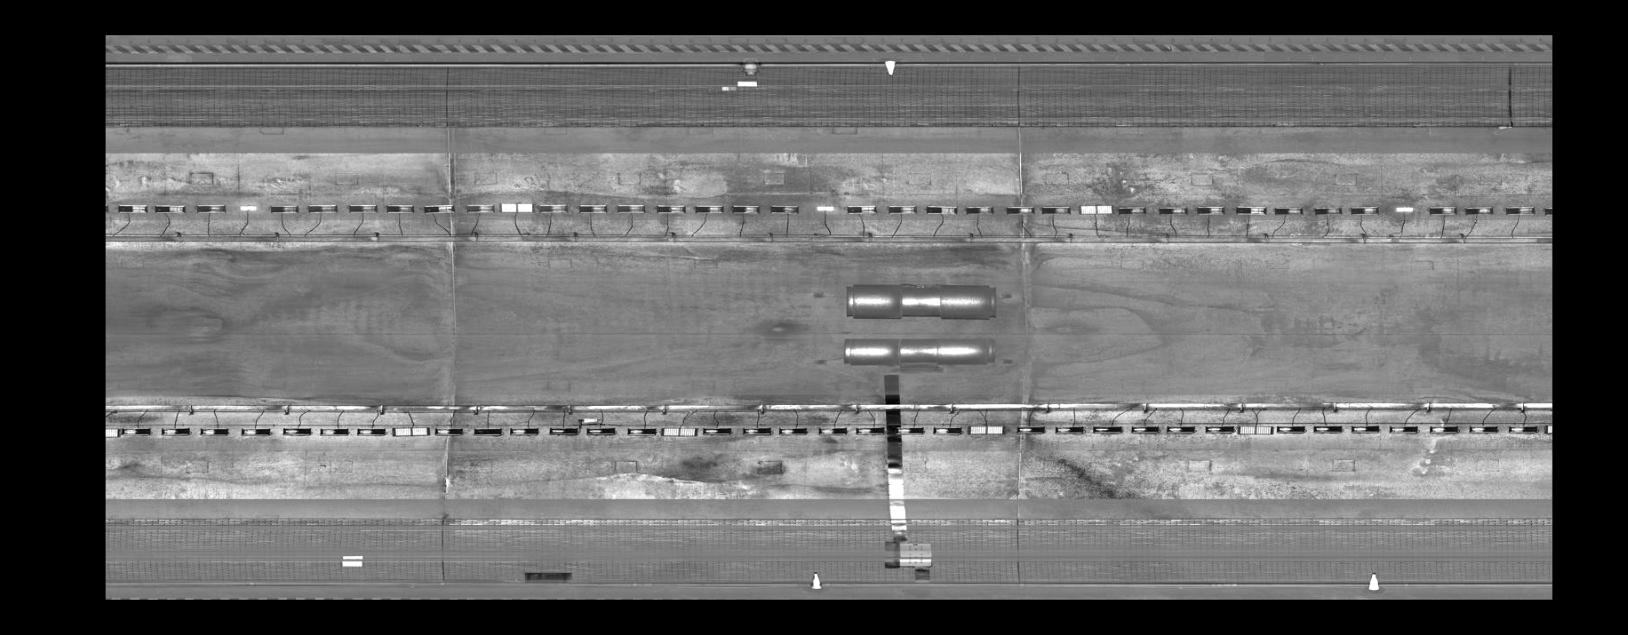light: (1234, 423, 1275, 437), (967, 423, 1007, 437), (535, 200, 572, 215), (1076, 203, 1114, 217), (389, 425, 431, 438), (660, 425, 700, 438), (1233, 204, 1270, 218), (1039, 203, 1074, 217), (701, 423, 735, 437), (653, 202, 689, 215), (150, 203, 189, 215), (1195, 203, 1228, 217), (306, 201, 340, 215), (498, 201, 534, 214), (420, 202, 456, 215), (1505, 422, 1541, 435), (431, 424, 466, 437), (1271, 205, 1305, 218), (923, 204, 960, 216), (613, 202, 647, 215), (576, 202, 610, 215), (345, 202, 379, 215), (893, 424, 927, 437), (547, 424, 581, 437), (279, 425, 316, 437), (157, 425, 193, 437), (1503, 203, 1537, 216), (1426, 204, 1459, 217), (1156, 204, 1189, 217), (1003, 203, 1036, 216), (1274, 422, 1307, 435), (885, 203, 920, 215), (114, 203, 150, 215), (964, 203, 996, 216), (741, 424, 774, 437), (691, 203, 726, 215), (462, 202, 496, 214), (1387, 423, 1421, 435), (1347, 423, 1381, 435), (1310, 423, 1345, 435), (470, 425, 505, 437), (192, 203, 229, 214), (1115, 205, 1148, 217), (729, 204, 762, 216), (384, 202, 417, 214), (268, 203, 301, 215), (1012, 424, 1046, 436), (853, 425, 887, 437), (816, 425, 849, 437), (777, 425, 810, 437), (1052, 424, 1088, 435), (316, 426, 352, 437), (238, 426, 274, 437), (1312, 205, 1345, 217), (1164, 423, 1196, 435), (1347, 205, 1382, 216), (1467, 424, 1502, 435), (1426, 424, 1461, 435), (1090, 424, 1125, 435), (195, 426, 230, 437), (1462, 205, 1496, 216), (844, 203, 878, 214), (932, 425, 964, 437), (625, 426, 659, 437), (585, 426, 619, 437), (507, 426, 541, 437), (119, 426, 154, 437), (355, 427, 388, 438), (1204, 424, 1237, 435), (766, 204, 801, 214), (1130, 424, 1161, 434), (1392, 204, 1418, 214), (235, 204, 261, 213), (813, 204, 836, 213), (1541, 203, 1551, 217), (105, 427, 119, 437), (1543, 421, 1551, 437)
